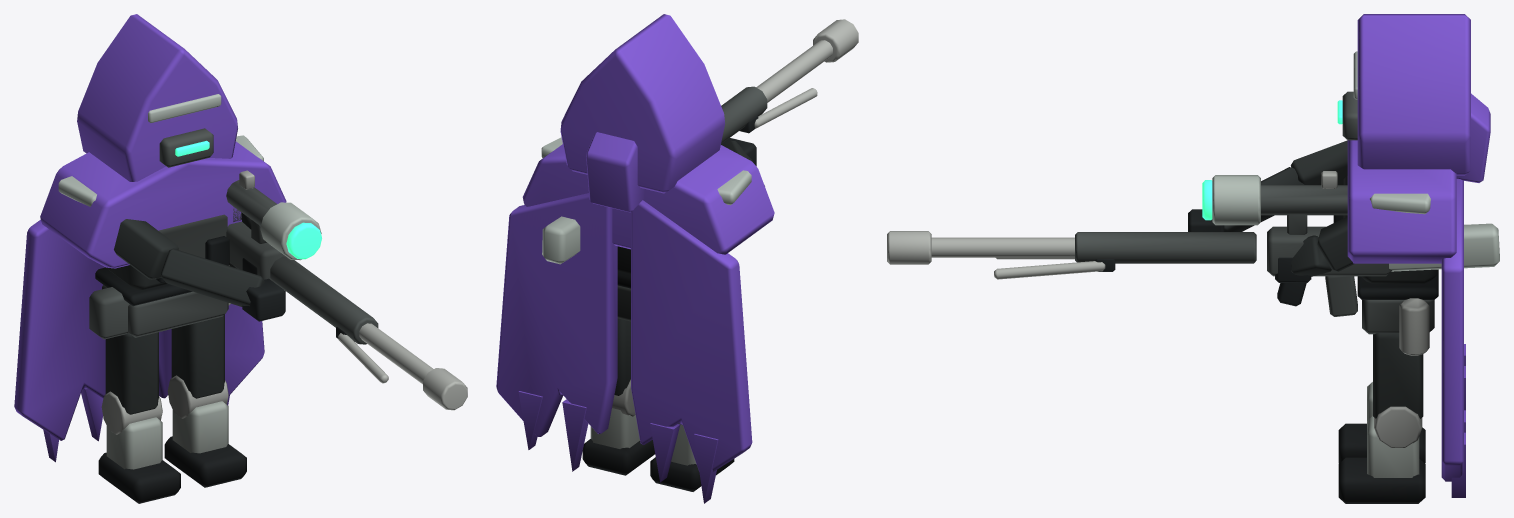
Rendered from stalker.glb.
3 views of the same model, side by side, from view 1: azimuth 30°, elevation 25°; view 2: azimuth 150°, elevation 25°; view 3: azimuth 270°, elevation 25° (orthographic). The views are drawn at different scales.
Parts seen in each view (by area): view 1: Split_cape, Hood, Mantle, Upper_leg, Upper_leg.001, Barrel_shroud, Forearms, Pelvis, Arms, Boot, Boot.001, Shin (+20 smaller); view 2: Split_cape, Hood, Mantle, Hem_tatters, Hood_tail, Boot.001, Barrel_long, Rifle_stock, Barrel_shroud, Shin.001, Boot, Muzzle_brake (+6 smaller); view 3: Hood, Mantle, Split_cape, Barrel_shroud, Upper_leg.001, Barrel_long, Boot.001, Arms, Scope_tube, Scope_bell, Receiver, Shin.001 (+15 smaller).
Boxes of the visible parts, left/top/right/bottom form: Split_cape: left=14, top=219, right=264, bottom=440; Hood: left=77, top=14, right=237, bottom=181; Mantle: left=40, top=141, right=286, bottom=268; Upper_leg: left=105, top=332, right=158, bottom=414; Upper_leg.001: left=171, top=314, right=224, bottom=398; Barrel_shroud: left=270, top=256, right=378, bottom=344; Forearms: left=160, top=248, right=264, bottom=306; Pelvis: left=102, top=285, right=228, bottom=337; Arms: left=114, top=212, right=251, bottom=279; Boot: left=98, top=452, right=180, bottom=503; Boot.001: left=164, top=436, right=246, bottom=487; Shin: left=106, top=417, right=162, bottom=469; Split_cape: left=496, top=193, right=752, bottom=471; Hood: left=560, top=14, right=725, bottom=193; Mantle: left=522, top=144, right=774, bottom=254; Hem_tatters: left=518, top=391, right=718, bottom=503; Hood_tail: left=586, top=132, right=644, bottom=212; Boot.001: left=582, top=439, right=655, bottom=475; Barrel_long: left=756, top=40, right=832, bottom=102; Rifle_stock: left=542, top=216, right=580, bottom=264; Barrel_shroud: left=721, top=86, right=767, bottom=143; Shin.001: left=590, top=408, right=639, bottom=448; Boot: left=650, top=457, right=734, bottom=491; Muzzle_brake: left=813, top=19, right=858, bottom=62; Hood: left=1357, top=14, right=1470, bottom=175; Mantle: left=1347, top=140, right=1456, bottom=263; Split_cape: left=1441, top=178, right=1463, bottom=481; Barrel_shroud: left=1075, top=232, right=1256, bottom=263; Upper_leg.001: left=1373, top=332, right=1423, bottom=418; Barrel_long: left=931, top=237, right=1074, bottom=257; Boot.001: left=1338, top=457, right=1425, bottom=503; Arms: left=1290, top=140, right=1354, bottom=271; Scope_tube: left=1261, top=185, right=1347, bottom=215; Scope_bell: left=1212, top=175, right=1260, bottom=225; Receiver: left=1267, top=226, right=1392, bottom=276; Shin.001: left=1367, top=416, right=1419, bottom=477.
Size of the model in its own units: 1.48 by 2.52 by 3.03.
